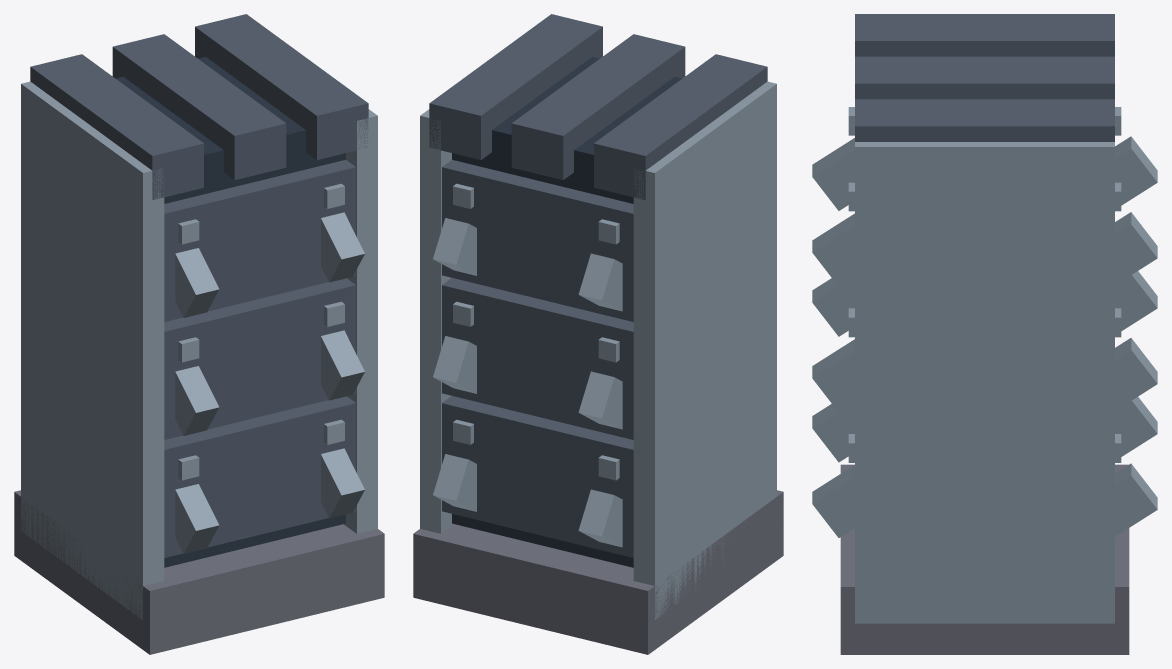
The model's file is iron_wall.gltf.
3 views of the same model, side by side, from view 1: azimuth 30°, elevation 25°; view 2: azimuth 150°, elevation 25°; view 3: azimuth 270°, elevation 25° (orthographic). The views are drawn at different scales.
Parts seen in each view (by area): view 1: Body; view 2: Body; view 3: Body.
Boxes of the visible parts, left/top/right/bottom form: Body: left=14, top=14, right=384, bottom=654; Body: left=413, top=14, right=783, bottom=654; Body: left=812, top=14, right=1157, bottom=654.
Bounding box in the file's own units: 1 × 2 × 1.2.
